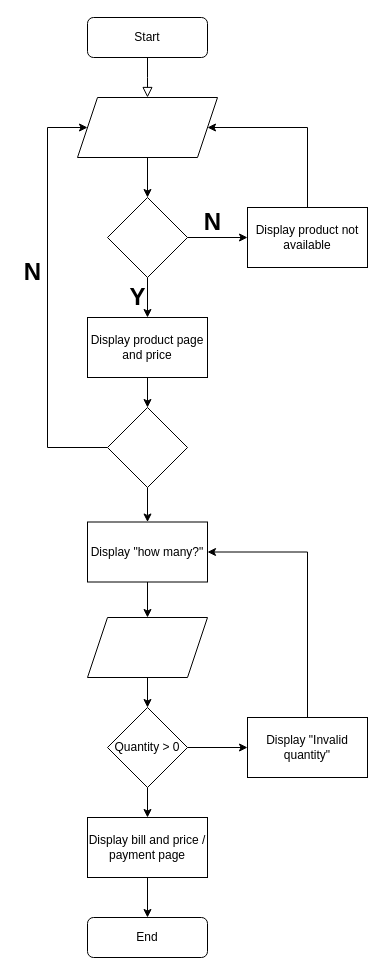
The diagram is 385 pixels wide and 975 high, and some of its shapes have lost their labels. The centre of each missing label's shape, as x and y in pixels:
"Availiable product" belongs at (x=147, y=237).
"display confirmation" belongs at (x=147, y=447).
"Input data Enter product-name" belongs at (x=147, y=127).
"Input Quantity" belongs at (x=147, y=647).
